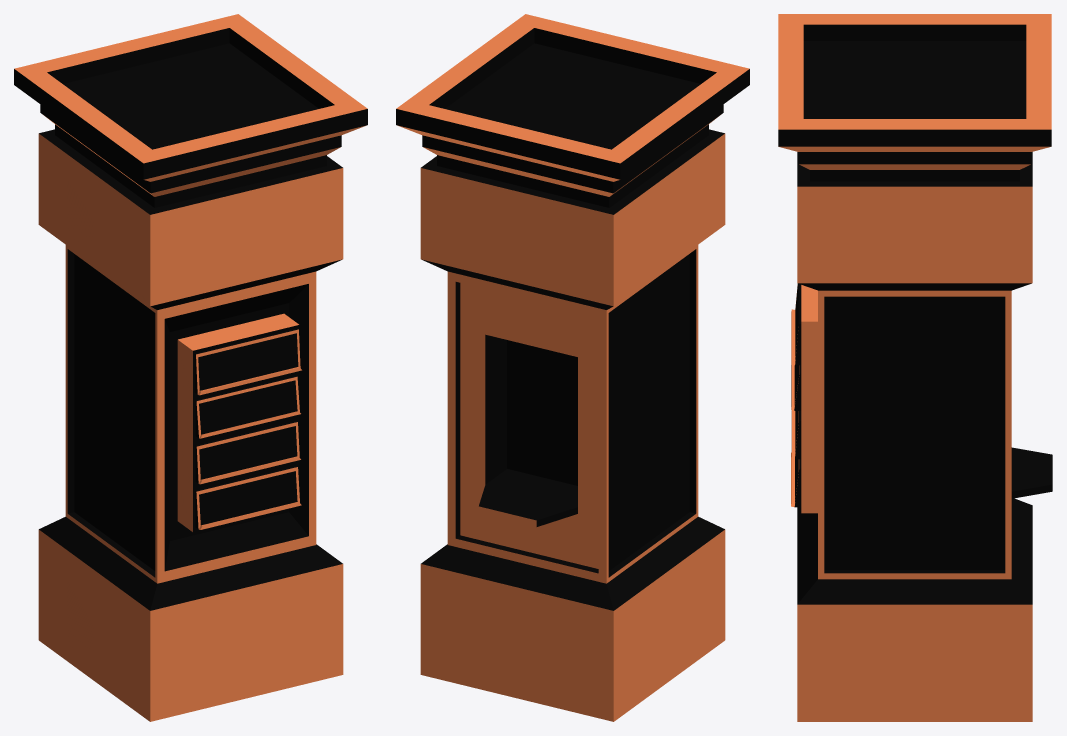
The model's file is stand_bronce.glb.
3 views of the same model, side by side, from view 1: azimuth 30°, elevation 25°; view 2: azimuth 150°, elevation 25°; view 3: azimuth 270°, elevation 25° (orthographic). The views are drawn at different scales.
Parts seen in each view (by area): view 1: ESTRUCTURA_PRINCIPAL, ESTANTERIA; view 2: ESTRUCTURA_PRINCIPAL; view 3: ESTRUCTURA_PRINCIPAL, ESTANTERIA.
Boxes of the visible parts, box(x1,y1,x2,y2) form: ESTRUCTURA_PRINCIPAL: box(14, 14, 367, 721); ESTANTERIA: box(177, 313, 301, 532); ESTRUCTURA_PRINCIPAL: box(396, 14, 749, 721); ESTRUCTURA_PRINCIPAL: box(778, 14, 1052, 721); ESTANTERIA: box(791, 283, 817, 513).
Size of what is drawn, in the model's own units: 7.1 by 17.2 by 7.13.
